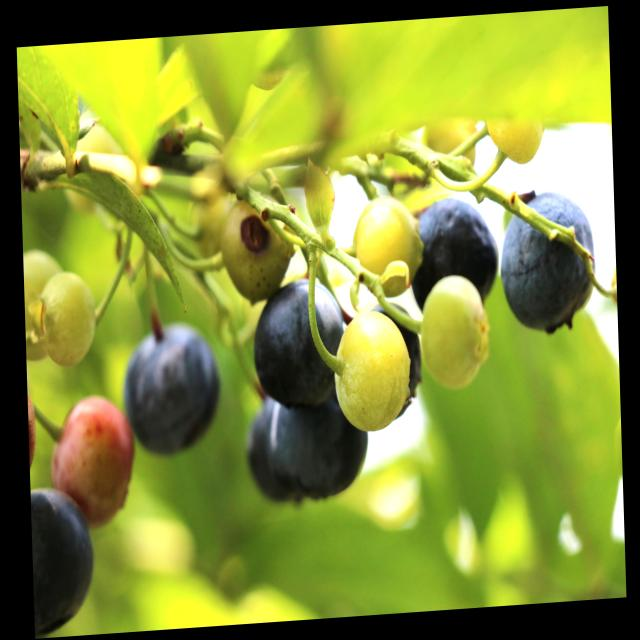blueberry: (119, 317, 226, 463), (500, 186, 597, 336), (247, 277, 345, 407), (265, 383, 370, 504), (410, 193, 502, 313), (30, 480, 99, 637)
blueberry-halfripe: (49, 395, 137, 529)
blueberry-unripe: (330, 305, 412, 435), (215, 193, 292, 299), (349, 193, 425, 300), (419, 274, 490, 388), (40, 268, 103, 372), (23, 244, 70, 362), (418, 110, 480, 176), (483, 104, 547, 167)
